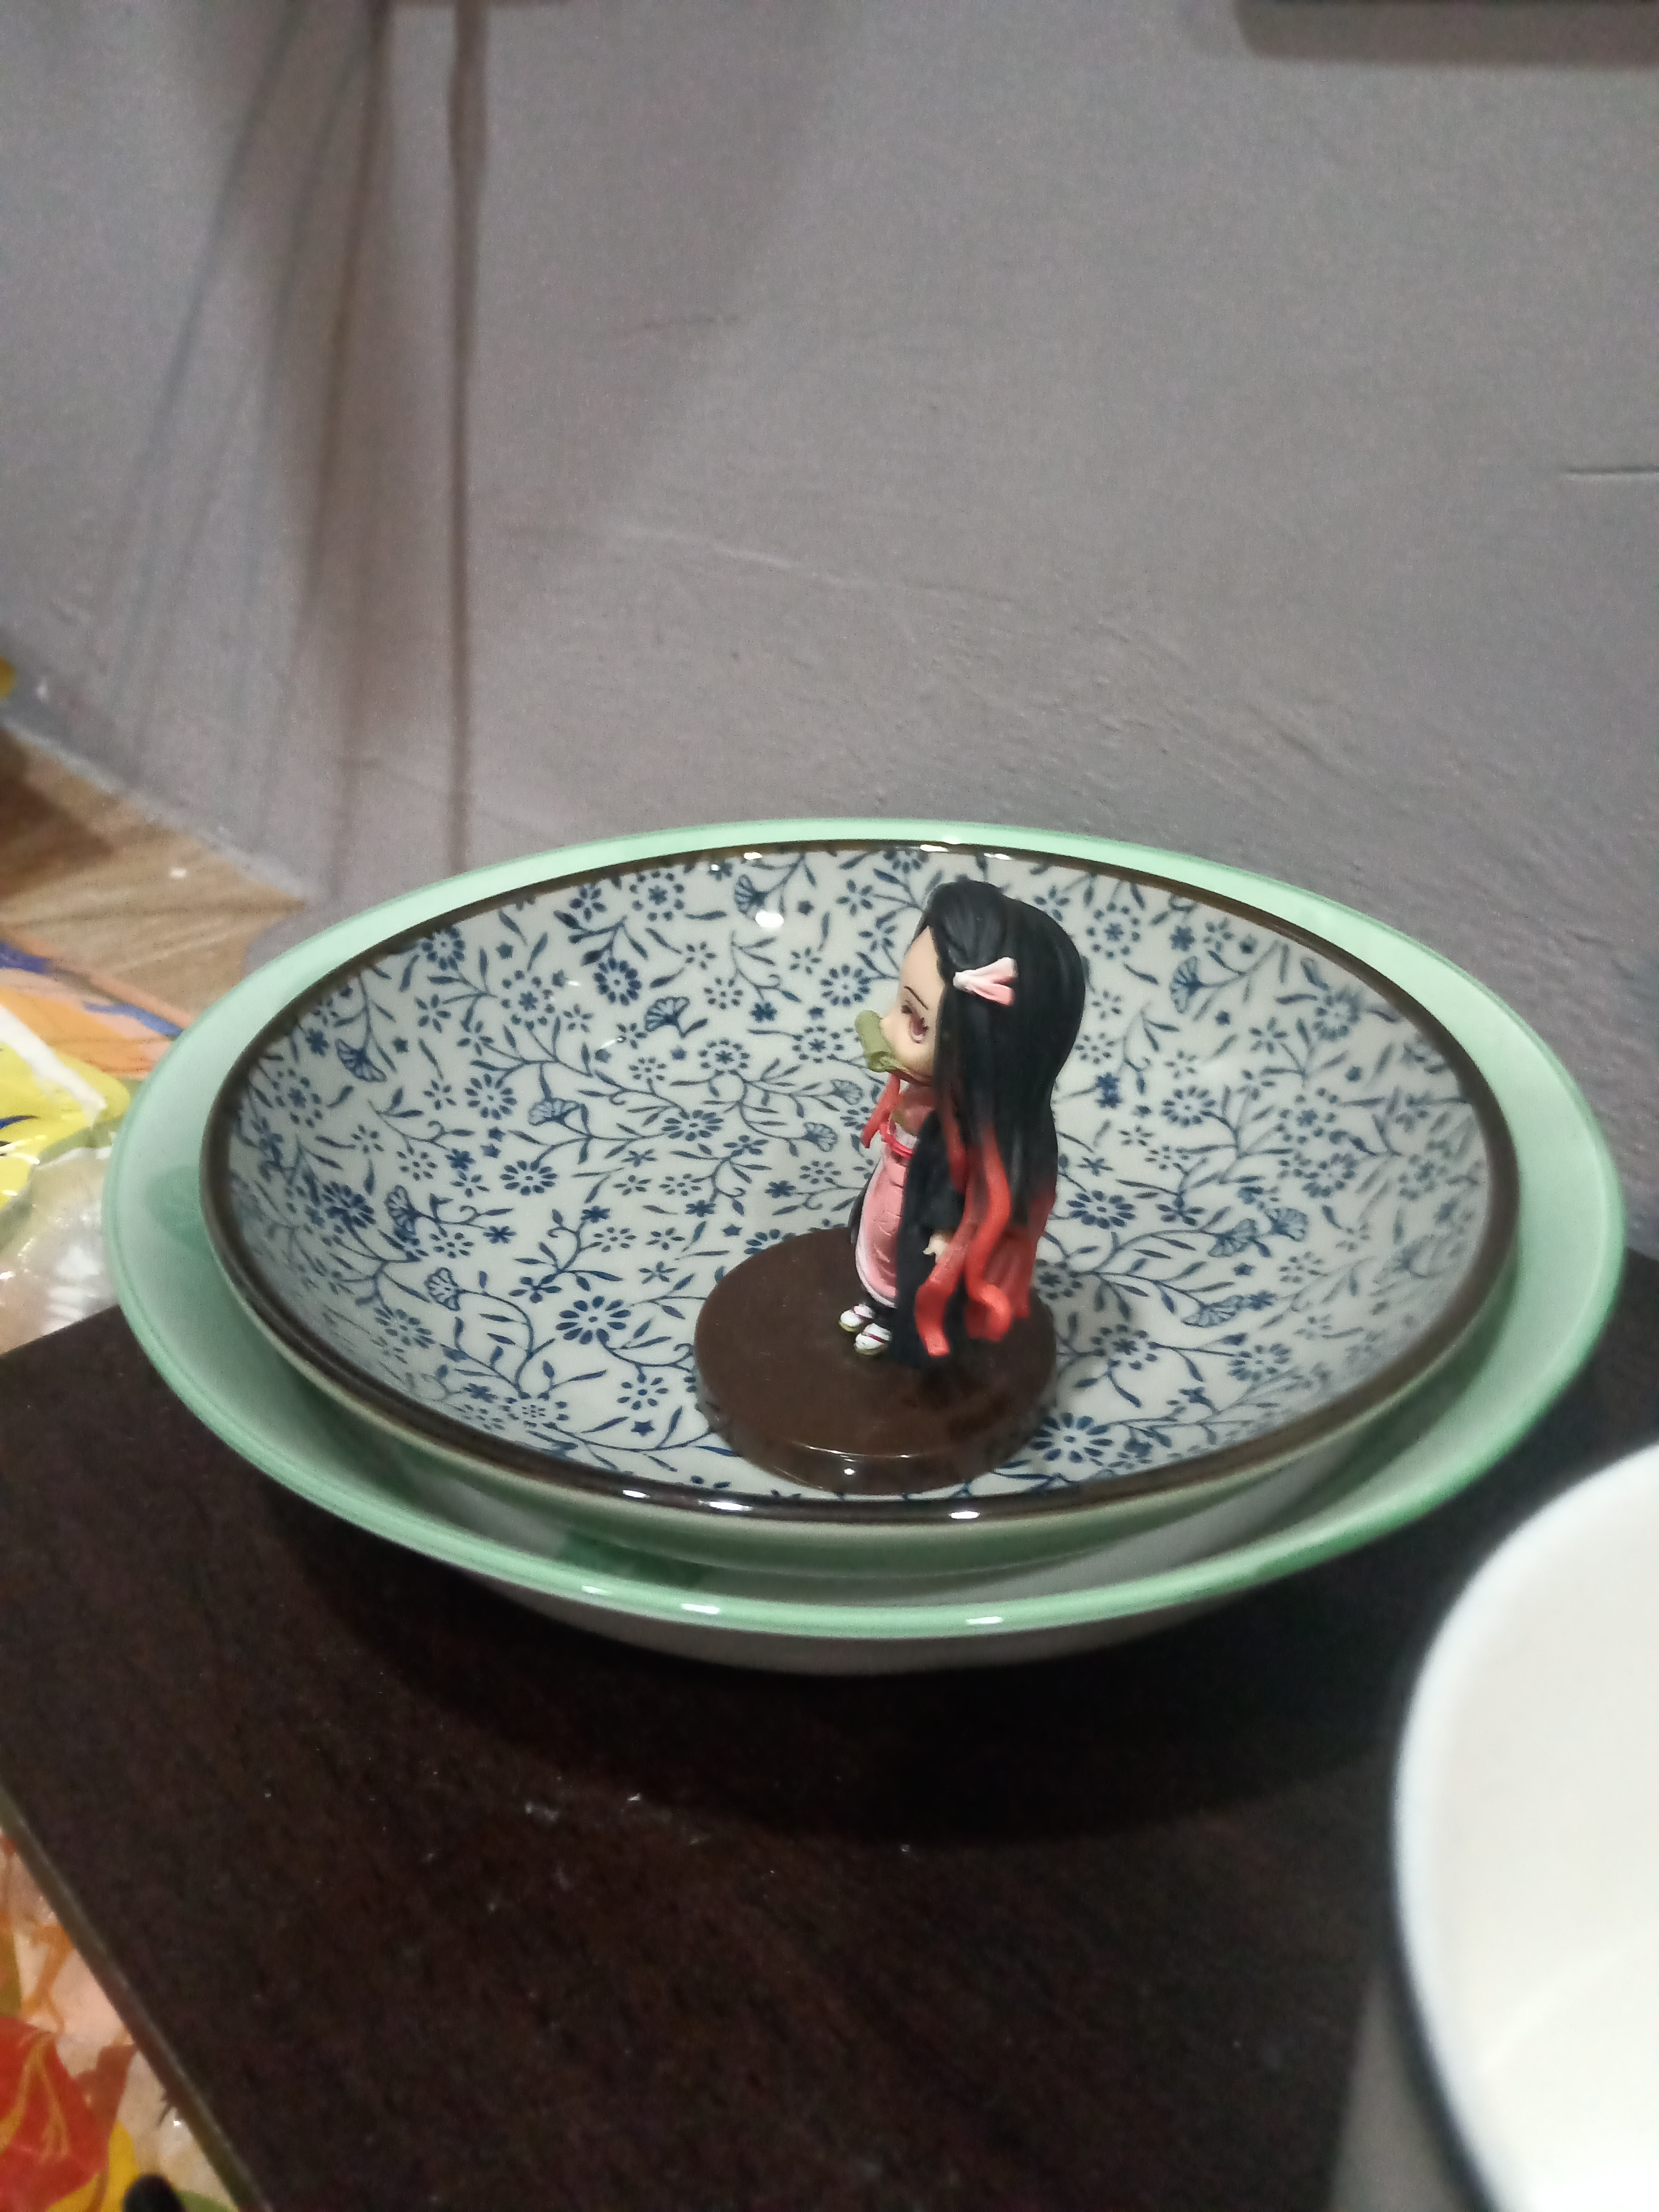Nezuko: (655, 853, 1126, 1508)
